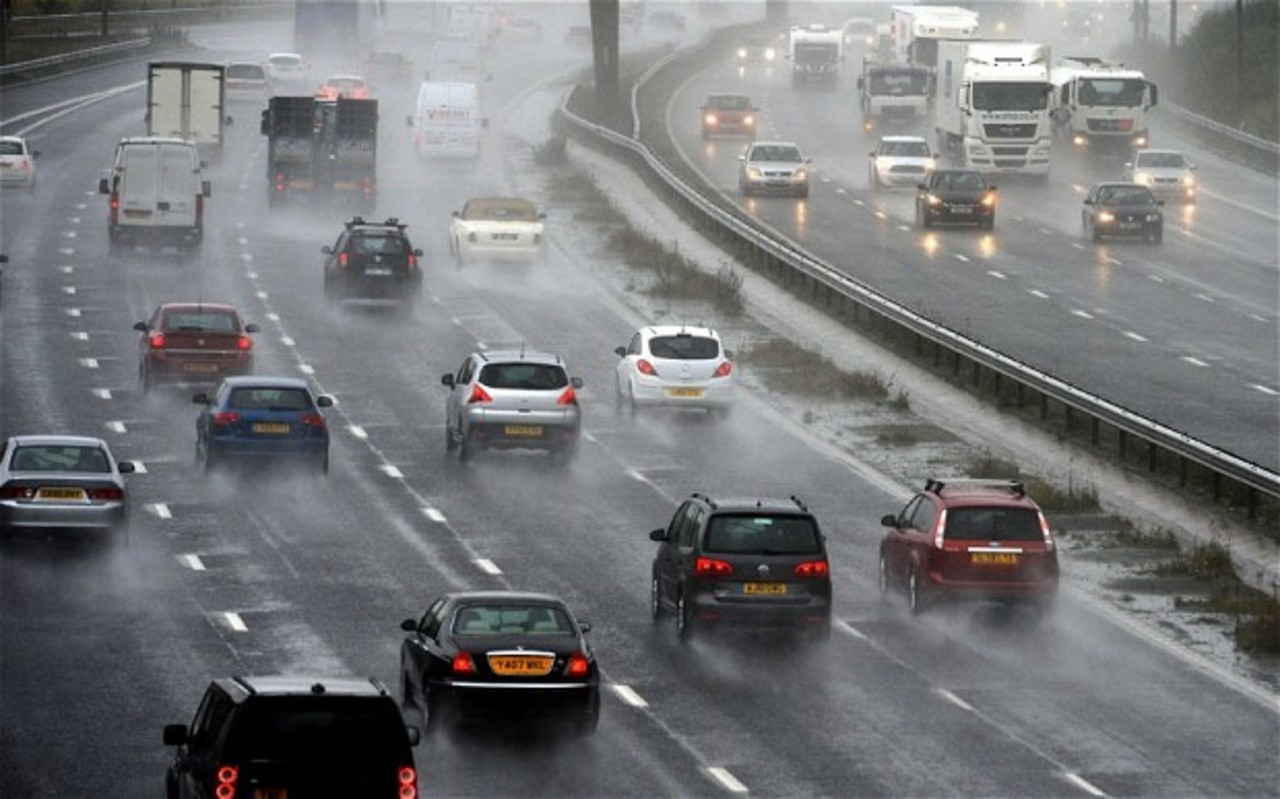car: (162, 669, 422, 798), (393, 589, 600, 738), (646, 493, 831, 641), (876, 476, 1061, 620), (441, 348, 584, 464), (3, 435, 132, 536), (610, 322, 734, 413), (105, 139, 206, 250), (201, 376, 330, 461), (140, 300, 252, 381), (446, 194, 546, 264), (323, 224, 422, 292), (1080, 183, 1166, 245), (915, 168, 999, 230), (737, 140, 811, 198), (1128, 148, 1197, 205), (868, 135, 935, 189), (697, 92, 759, 140), (223, 59, 271, 106), (356, 47, 418, 83), (0, 135, 37, 191), (734, 29, 780, 65), (267, 51, 309, 80), (317, 74, 365, 99)
truck: (919, 38, 1052, 179), (260, 102, 378, 213), (1056, 58, 1162, 163), (144, 57, 225, 162), (408, 82, 486, 166), (860, 71, 926, 131), (787, 21, 843, 90)
